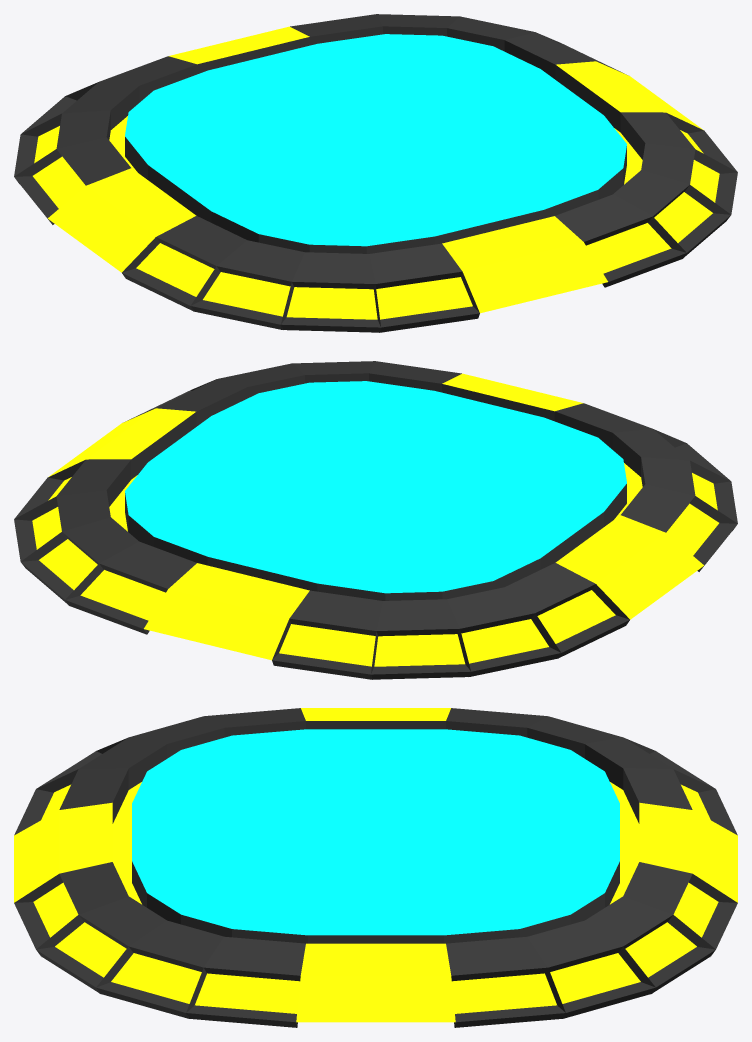
Rendered from DeliveryPoint01.fbx.
3 views of the same model, one above another, from view 1: azimuth 30°, elevation 25°; view 2: azimuth 150°, elevation 25°; view 3: azimuth 270°, elevation 25° (orthographic). The views are drawn at different scales.
Visible parts, largest first — view 1: DeliveryPoint; view 2: DeliveryPoint; view 3: DeliveryPoint.
Boxes of the visible parts, <box> form: DeliveryPoint: <box>14,14,737,332</box>; DeliveryPoint: <box>14,361,737,679</box>; DeliveryPoint: <box>14,708,737,1027</box>.
Size of the model in its own units: 437 by 30.05 by 437.
